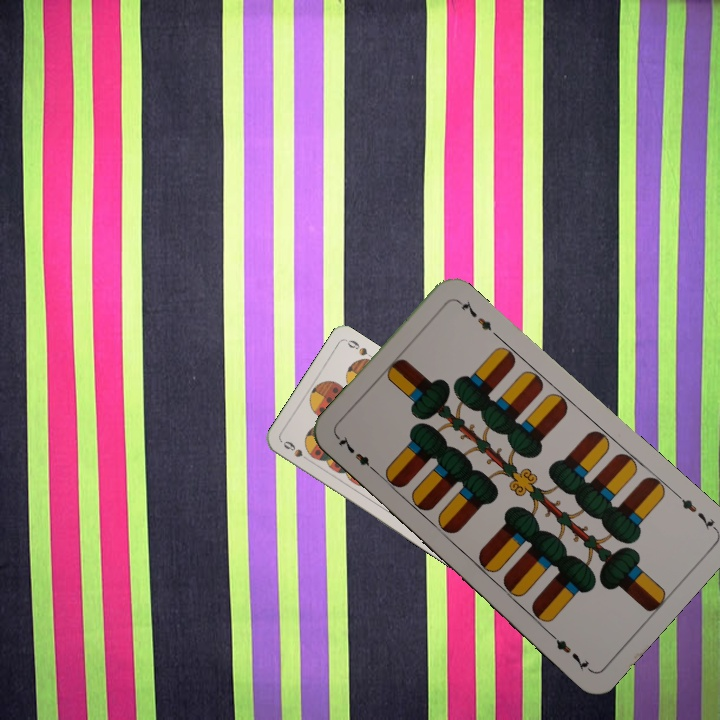E7: (333, 432, 381, 477), (671, 489, 719, 533)
S9: (279, 437, 314, 465)
